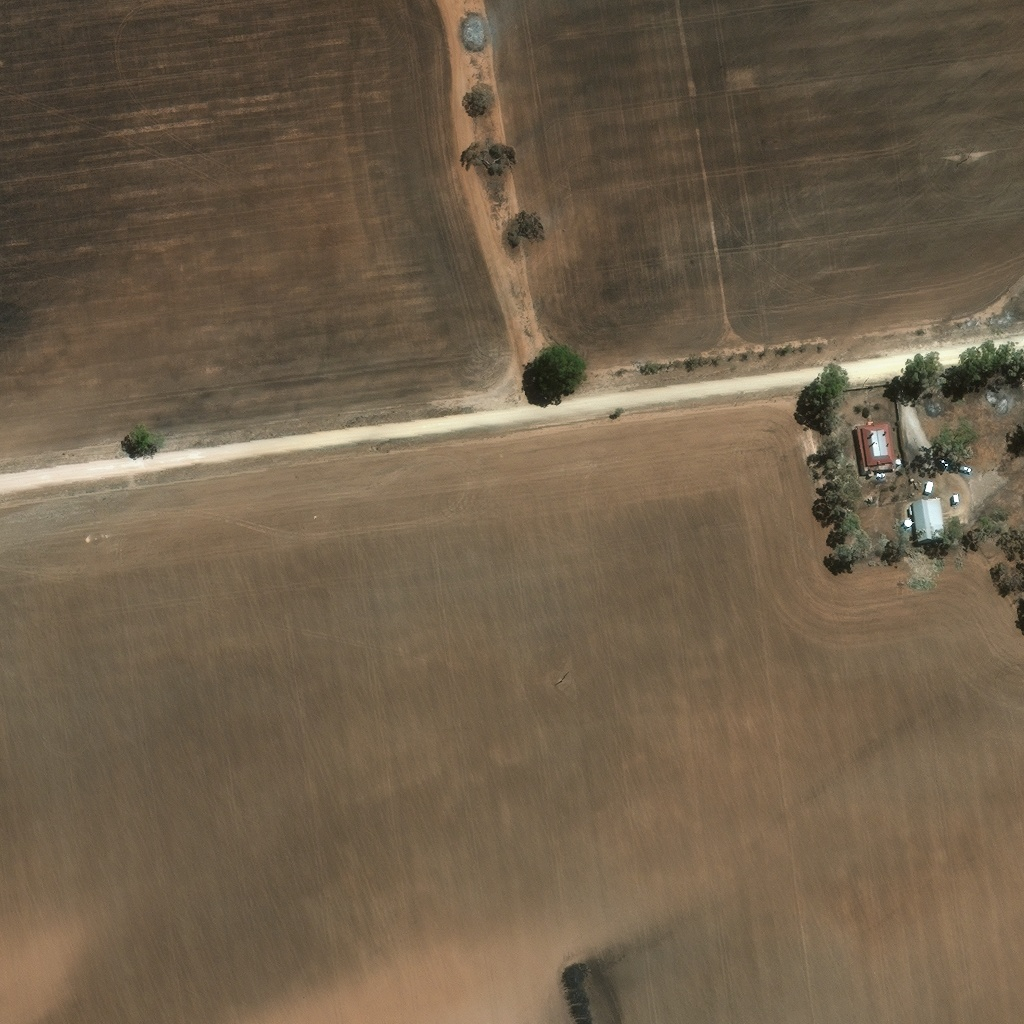0 no-damage: (856, 415, 898, 472), (914, 497, 948, 540), (905, 517, 914, 524), (897, 457, 903, 463)
4 un-classified: (869, 493, 875, 499)
